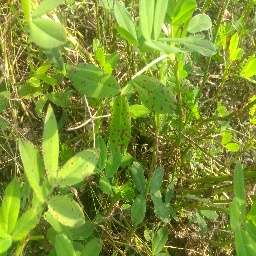GroundNut_Leaf: (134, 71, 176, 116), (63, 64, 120, 94), (41, 101, 60, 186), (61, 148, 101, 188), (112, 95, 132, 167), (17, 137, 40, 196), (28, 18, 69, 48), (11, 204, 44, 241), (47, 194, 84, 226), (231, 159, 246, 227), (184, 12, 214, 37), (185, 35, 217, 58), (130, 194, 147, 225), (148, 165, 167, 192)
